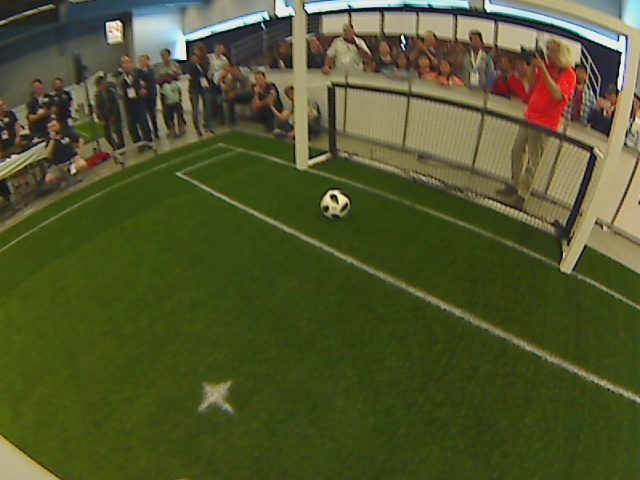ball: (318, 188, 351, 220)
